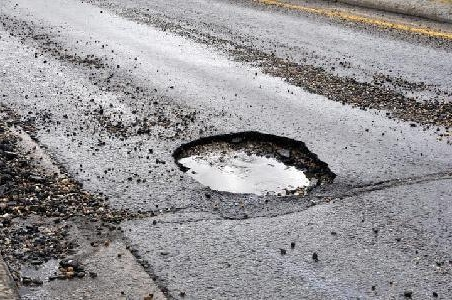pothole: (167, 127, 338, 196)
